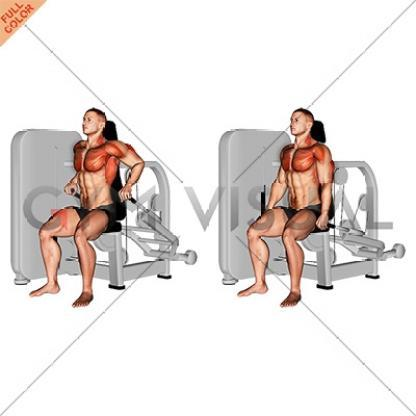seated dip machine: (219, 128, 406, 292), (11, 129, 197, 291)
